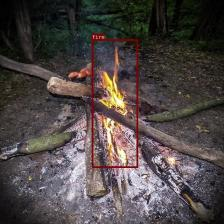fire: (92, 38, 138, 168)
